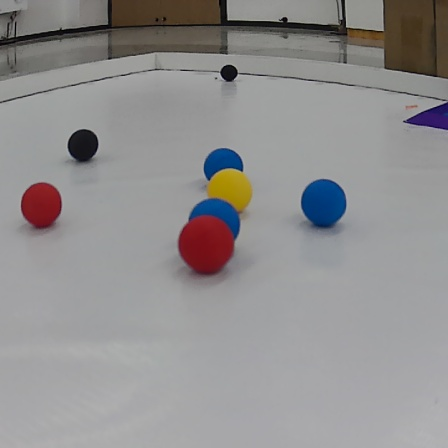black: (69, 128, 98, 160), (220, 63, 240, 84)
blue: (298, 177, 352, 226), (190, 199, 245, 239), (200, 146, 244, 180)
red: (177, 216, 231, 268), (20, 182, 62, 228)
yellow: (207, 168, 255, 213)
